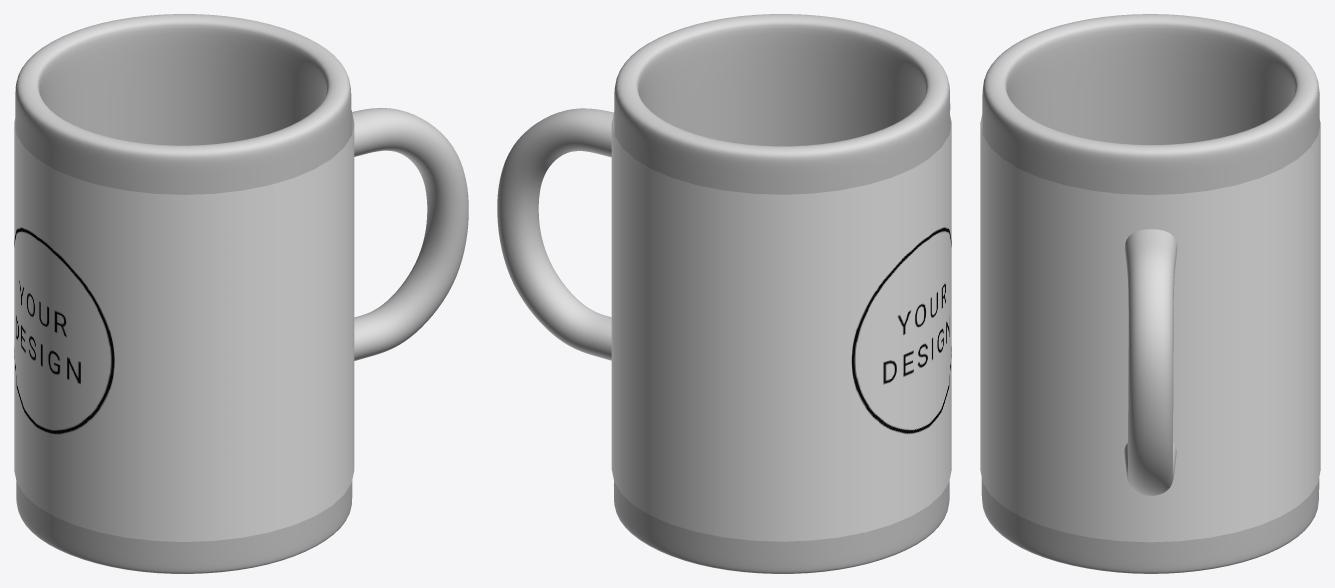
File: cup.fbx
3 renders of one model, left to right at view 1: azimuth 30°, elevation 25°; view 2: azimuth 150°, elevation 25°; view 3: azimuth 270°, elevation 25°, orthographic.
Visible parts, largest first — view 1: custom, base; view 2: custom, base; view 3: custom, base.
Part boxes in pixels (x1,y1,x2,y2): custom: (14, 110, 354, 541); base: (15, 14, 468, 573); custom: (611, 112, 951, 541); base: (497, 14, 950, 573); custom: (980, 114, 1320, 542); base: (981, 14, 1319, 573).
Size of the model in its own units: 11.45 by 10.83 by 7.88.
2 materials, 1 textured.
